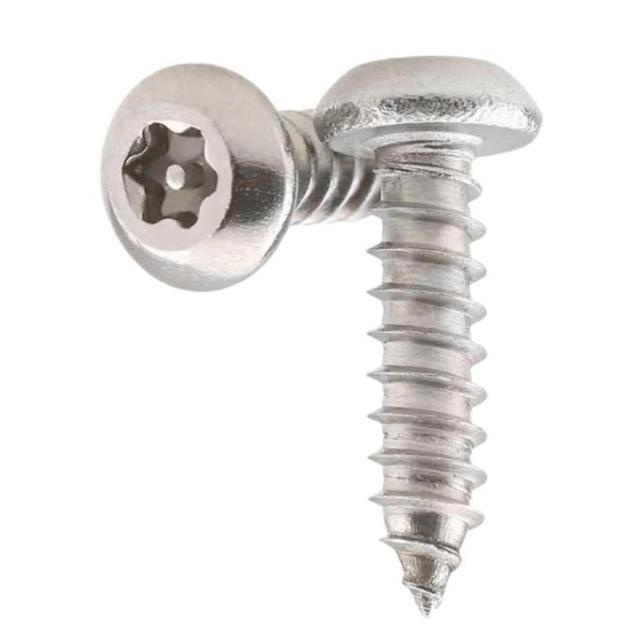torx: (96, 63, 301, 293)
